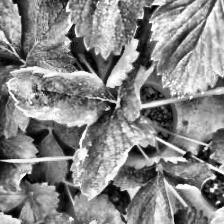Powdery Mildew Leaf: (70, 104, 158, 202), (6, 66, 115, 128), (107, 5, 159, 123), (160, 149, 216, 191), (112, 156, 159, 191)
